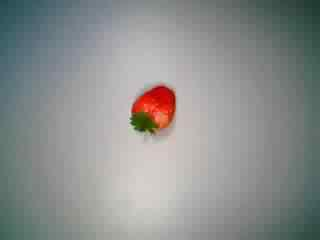strawberry: (119, 79, 187, 143)
